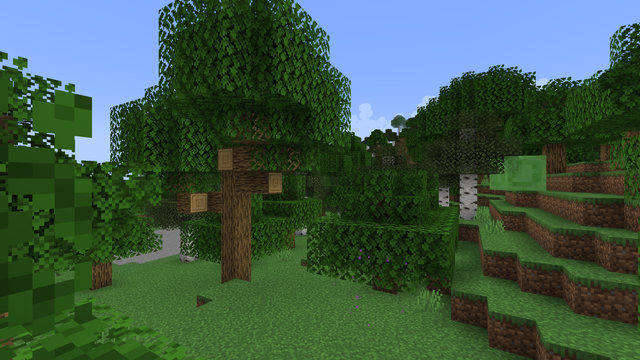slimes: (493, 153, 541, 190)
